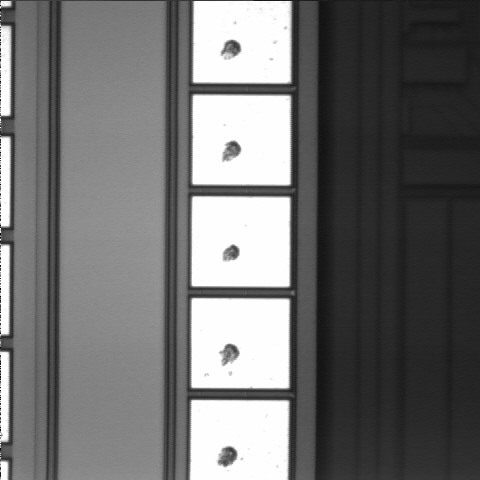pad: (192, 95, 290, 185), (192, 197, 290, 287), (191, 298, 289, 388)
